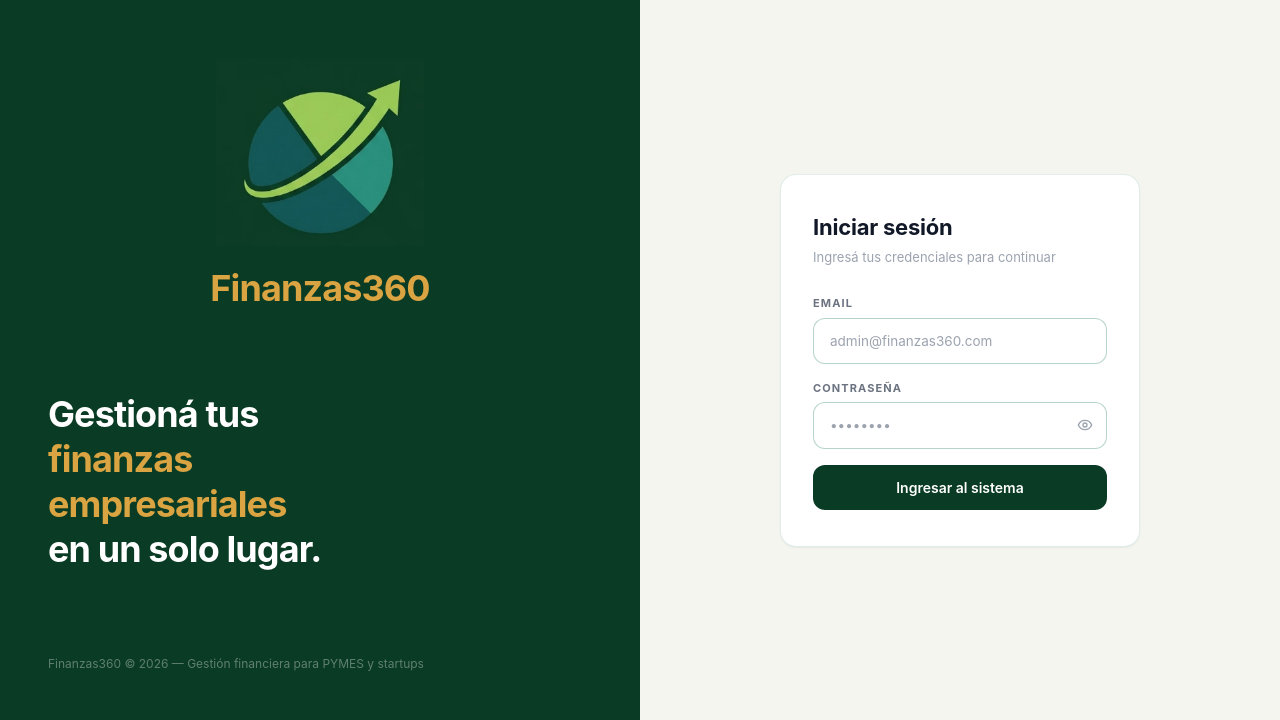
Test case: Autenticación — Login › credenciales incorrectas muestran mensaje de error
In the field with placeholder "admin@finanzas360.com": point(960, 341) [813, 318, 1107, 364], type "usuarioinexistente@test.com"
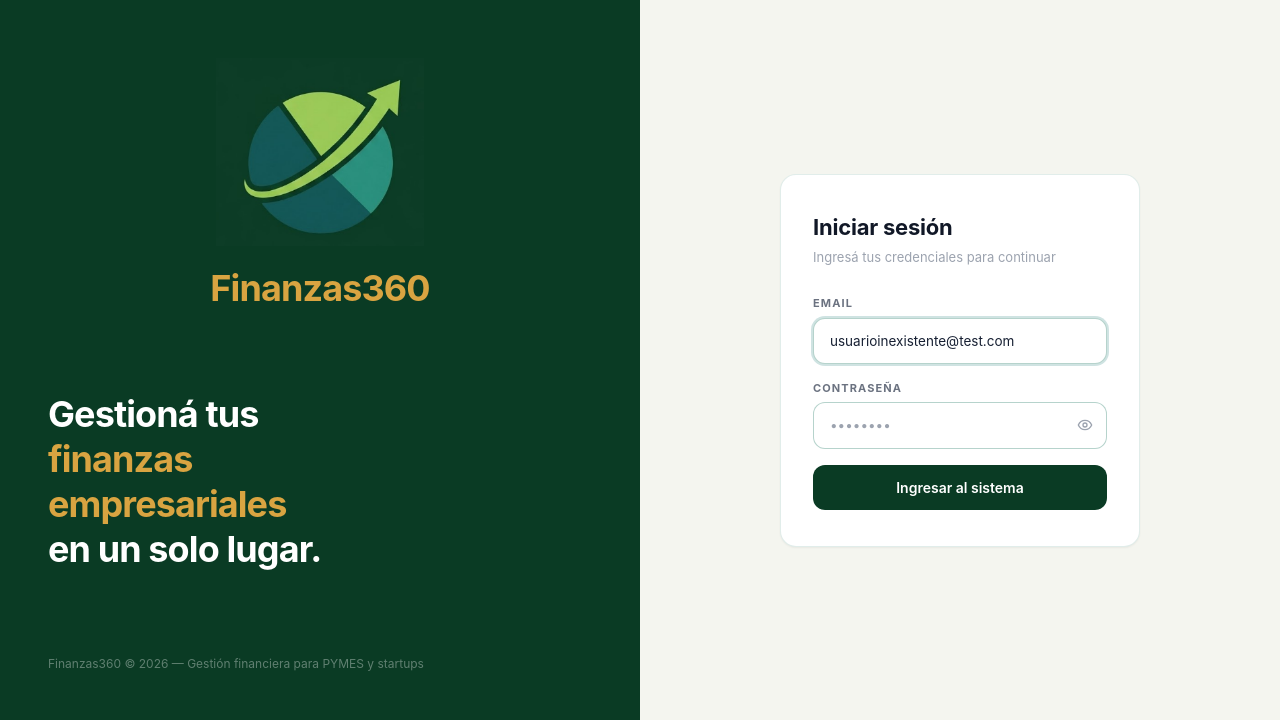
In the password field with placeholder "••••••••": point(960, 425) [813, 402, 1107, 448], type "contraseñaincorrecta"
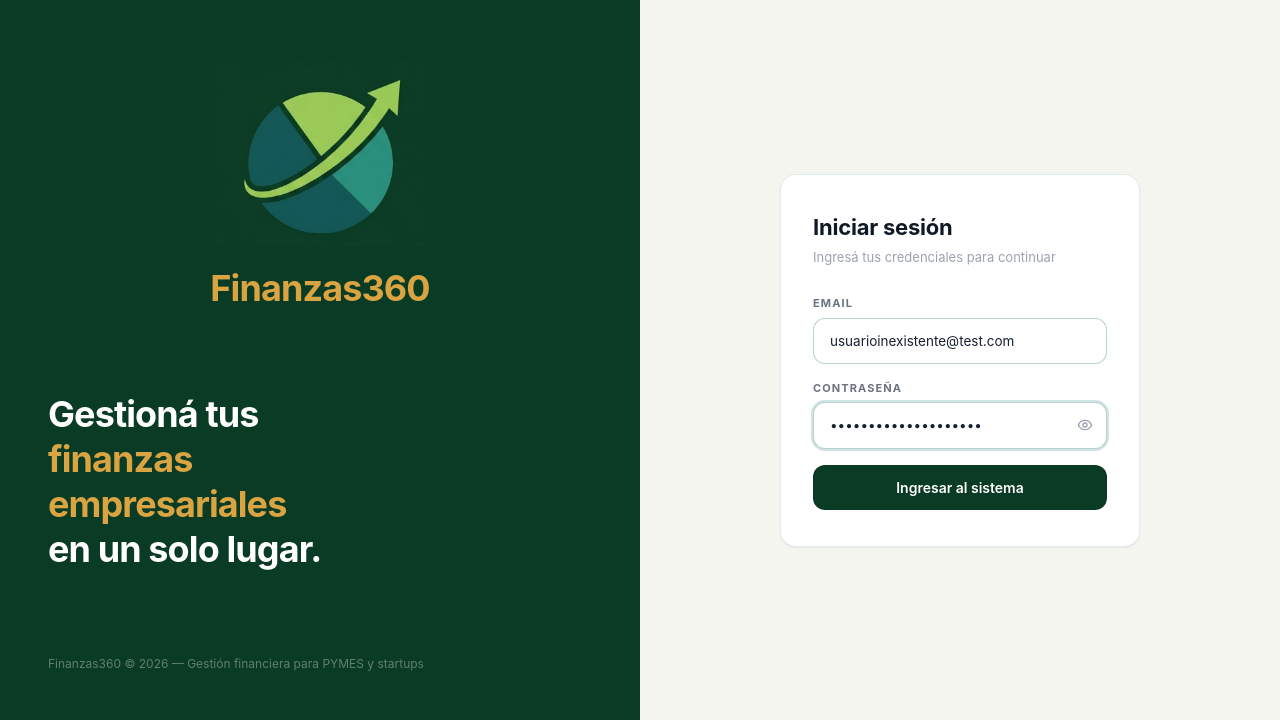
Click the button "Ingresar al sistema": point(960, 488) [813, 465, 1107, 510]
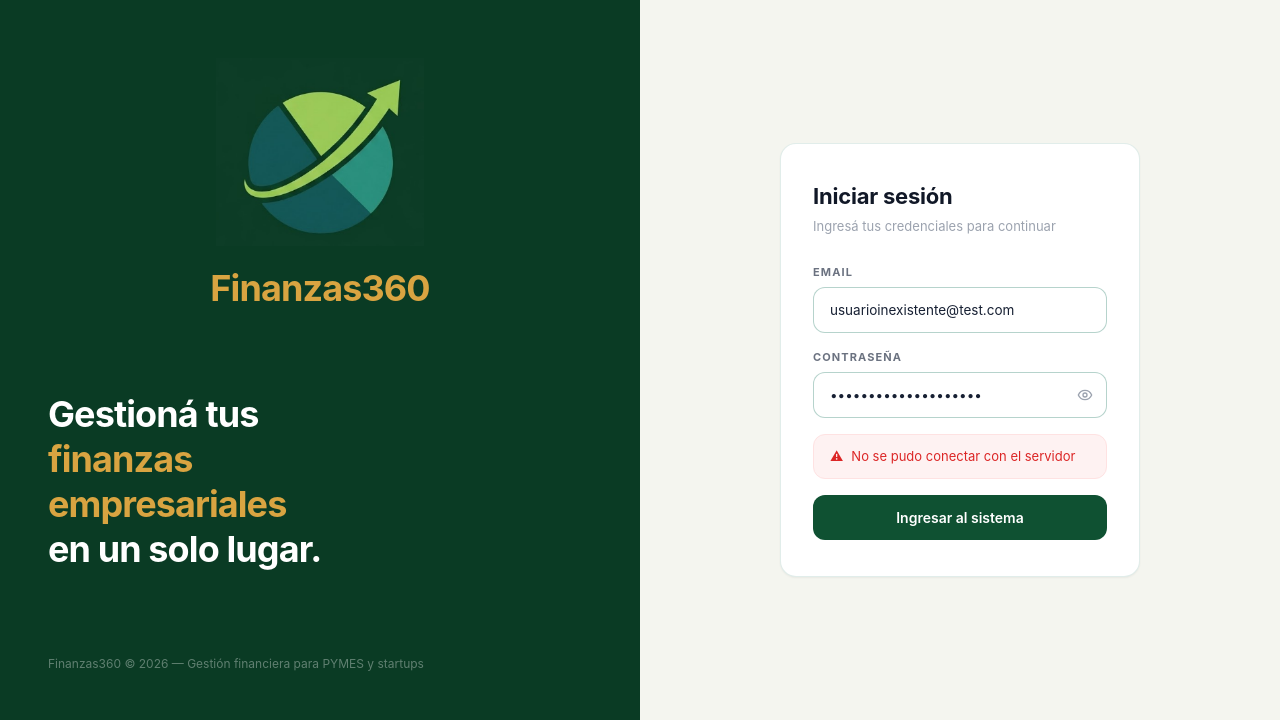
Expected: the element showing "⚠ No se pudo conectar con el servidor" is shown, [813, 434, 1107, 479]
